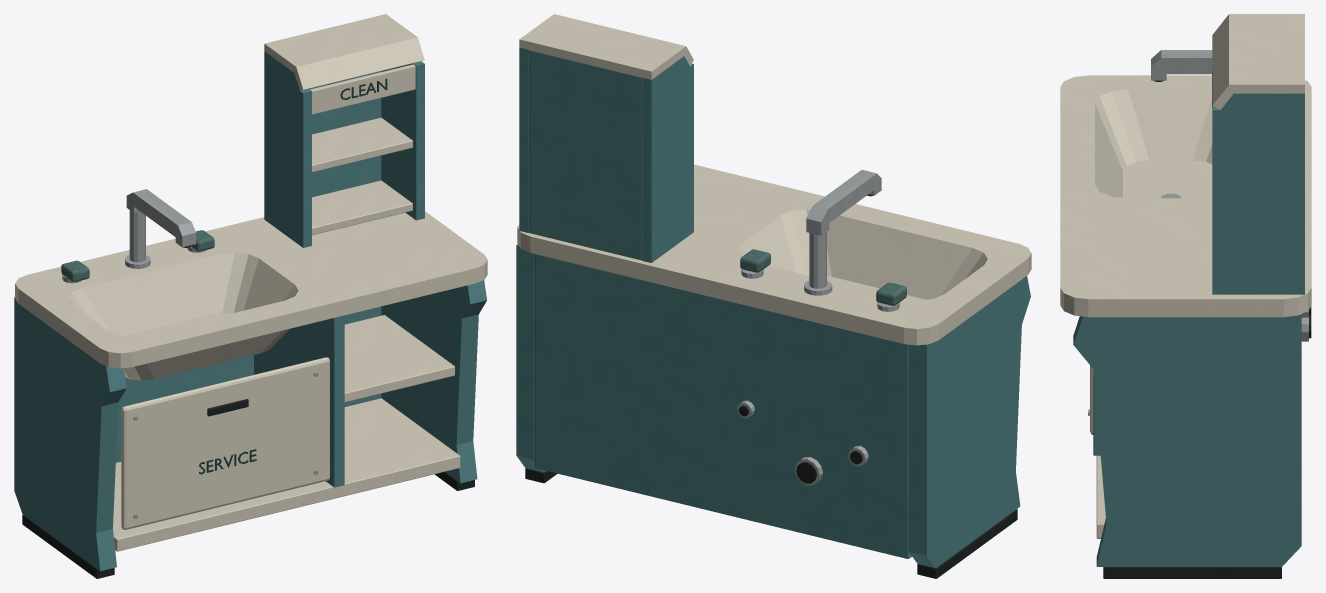
Rendered from AST-MED-002.glb.
3 views of the same model, side by side, from view 1: azimuth 30°, elevation 25°; view 2: azimuth 150°, elevation 25°; view 3: azimuth 270°, elevation 25° (orthographic). The views are drawn at different scales.
Parts seen in each view (by area): view 1: EXPORT_continuous_shaped_basin_and_dry_work_rim, EXPORT_front_removable_service_cover, EXPORT_left_swept_basin_support_cheek, EXPORT_lower_service_and_supply_floor, EXPORT_right_swept_basin_support_cheek, EXPORT_clean_supply_inner_tower_cheek, EXPORT_clean_supply_shelter_cap, EXPORT_lower_clean_supply_shelf, EXPORT_basin_service_supply_divider, EXPORT_clean_supply_outer_tower_cheek, EXPORT_rear_service_bearing_wall, EXPORT_clean_supply_middle_shelf (+6 smaller); view 2: EXPORT_rear_service_bearing_wall, EXPORT_continuous_shaped_basin_and_dry_work_rim, EXPORT_left_swept_basin_support_cheek, EXPORT_clean_supply_tower_back, EXPORT_clean_supply_inner_tower_cheek, EXPORT_clean_supply_shelter_cap, EXPORT_right_swept_basin_support_cheek, EXPORT_tap_forward_elbow, EXPORT_clean_supply_outer_tower_cheek, EXPORT_left_floor_isolation_shoe, EXPORT_tap_vertical_stem; view 3: EXPORT_right_swept_basin_support_cheek, EXPORT_continuous_shaped_basin_and_dry_work_rim, EXPORT_clean_supply_outer_tower_cheek, EXPORT_clean_supply_shelter_cap, EXPORT_right_floor_isolation_shoe, EXPORT_tap_forward_elbow, EXPORT_lower_service_and_supply_floor, EXPORT_basin_service_supply_divider.
Boxes of the visible parts, x1,y1,x2,y2 form: EXPORT_continuous_shaped_basin_and_dry_work_rim: [15, 211, 487, 380]; EXPORT_front_removable_service_cover: [121, 357, 329, 529]; EXPORT_left_swept_basin_support_cheek: [14, 297, 126, 571]; EXPORT_lower_service_and_supply_floor: [113, 398, 460, 551]; EXPORT_right_swept_basin_support_cheek: [381, 280, 486, 483]; EXPORT_clean_supply_inner_tower_cheek: [264, 51, 311, 247]; EXPORT_clean_supply_shelter_cap: [264, 14, 424, 90]; EXPORT_lower_clean_supply_shelf: [344, 315, 454, 402]; EXPORT_basin_service_supply_divider: [254, 315, 344, 487]; EXPORT_clean_supply_outer_tower_cheek: [381, 61, 424, 220]; EXPORT_rear_service_bearing_wall: [116, 306, 381, 462]; EXPORT_clean_supply_middle_shelf: [312, 117, 412, 172]; EXPORT_rear_service_bearing_wall: [535, 254, 911, 558]; EXPORT_continuous_shaped_basin_and_dry_work_rim: [517, 164, 1031, 345]; EXPORT_left_swept_basin_support_cheek: [908, 276, 1030, 568]; EXPORT_clean_supply_tower_back: [529, 50, 642, 260]; EXPORT_clean_supply_inner_tower_cheek: [642, 56, 693, 262]; EXPORT_clean_supply_shelter_cap: [519, 14, 693, 79]; EXPORT_right_swept_basin_support_cheek: [516, 244, 545, 472]; EXPORT_tap_forward_elbow: [806, 170, 881, 235]; EXPORT_clean_supply_outer_tower_cheek: [519, 47, 528, 232]; EXPORT_left_floor_isolation_shoe: [917, 509, 1017, 578]; EXPORT_tap_vertical_stem: [809, 232, 826, 288]; EXPORT_right_swept_basin_support_cheek: [1073, 314, 1301, 566]; EXPORT_continuous_shaped_basin_and_dry_work_rim: [1060, 75, 1311, 317]; EXPORT_clean_supply_outer_tower_cheek: [1212, 93, 1304, 294]; EXPORT_clean_supply_shelter_cap: [1212, 14, 1304, 109]; EXPORT_right_floor_isolation_shoe: [1103, 567, 1281, 578]; EXPORT_tap_forward_elbow: [1151, 50, 1212, 80]; EXPORT_lower_service_and_supply_floor: [1096, 455, 1105, 538]; EXPORT_basin_service_supply_divider: [1093, 371, 1100, 455].
Size of the model in its own units: 1.6 by 1.64 by 0.76.
6 materials, 6 textured.
